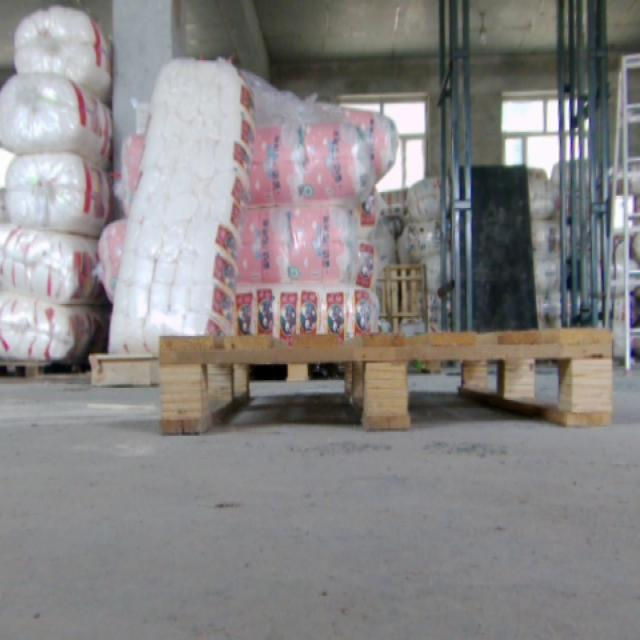block: (153, 351, 207, 438), (360, 351, 410, 432), (572, 354, 614, 430), (502, 356, 540, 401), (459, 356, 486, 391)
front: (158, 332, 616, 438)
